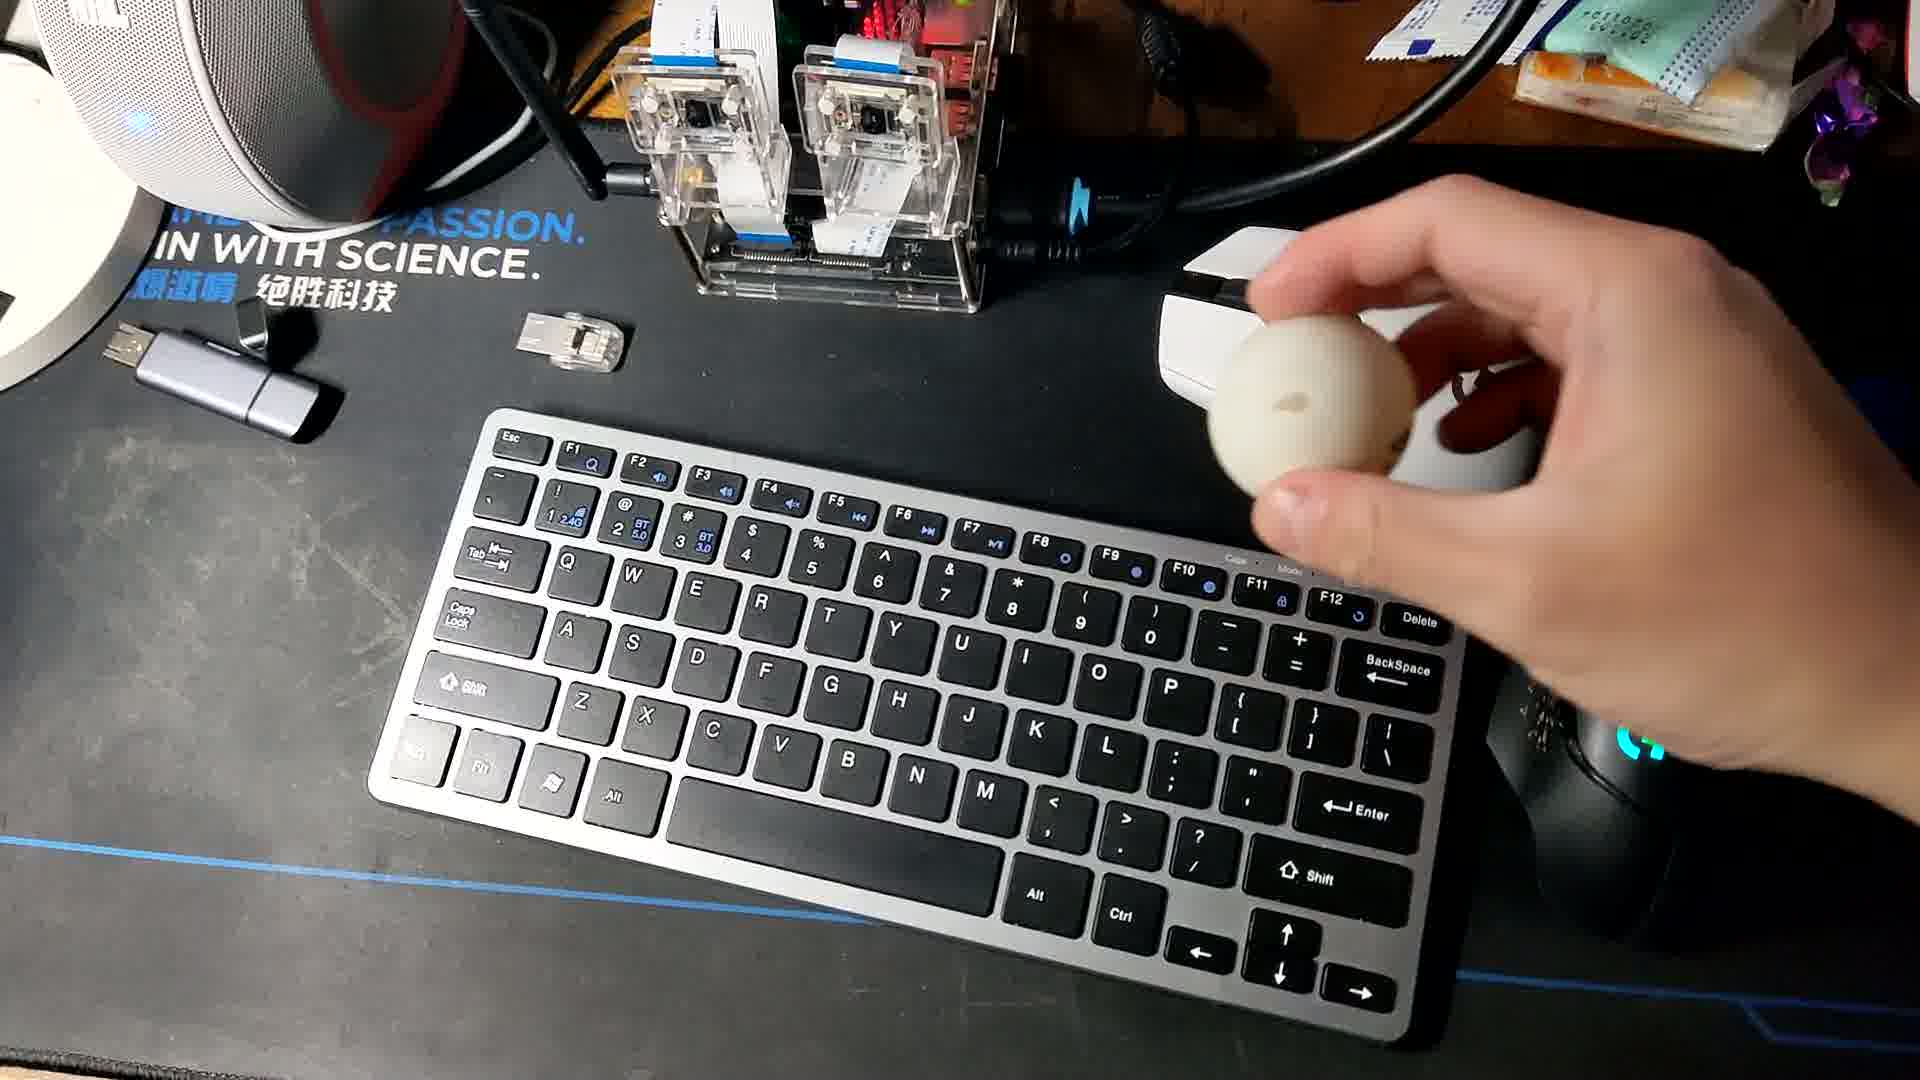Ball: (1207, 311, 1415, 520)
